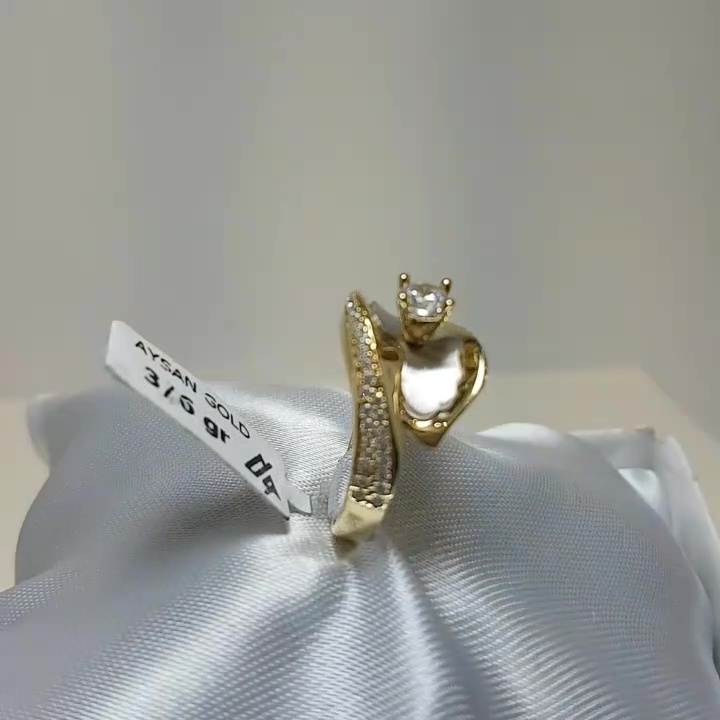Ring 6: (305, 247, 520, 542)
